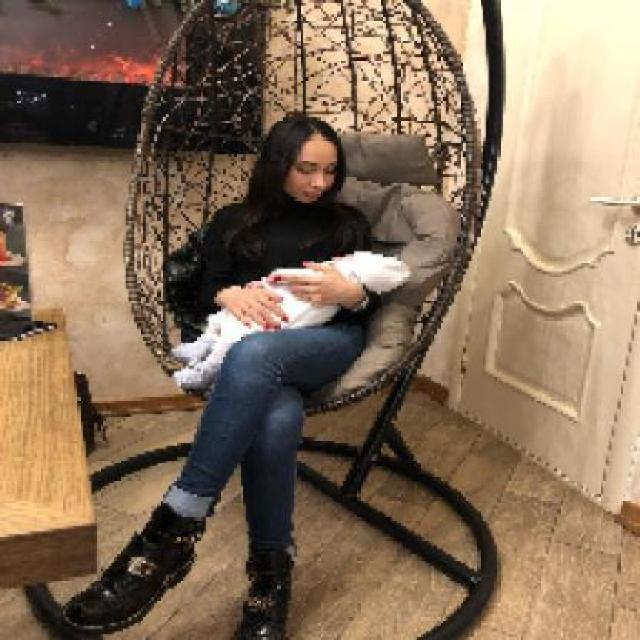child: (168, 252, 412, 388)
